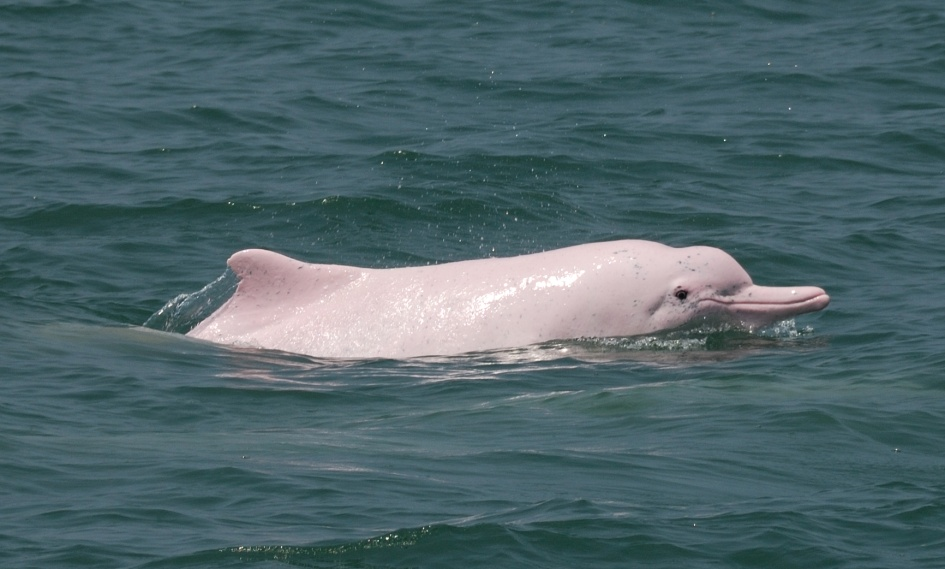fin: (180, 229, 844, 371)
